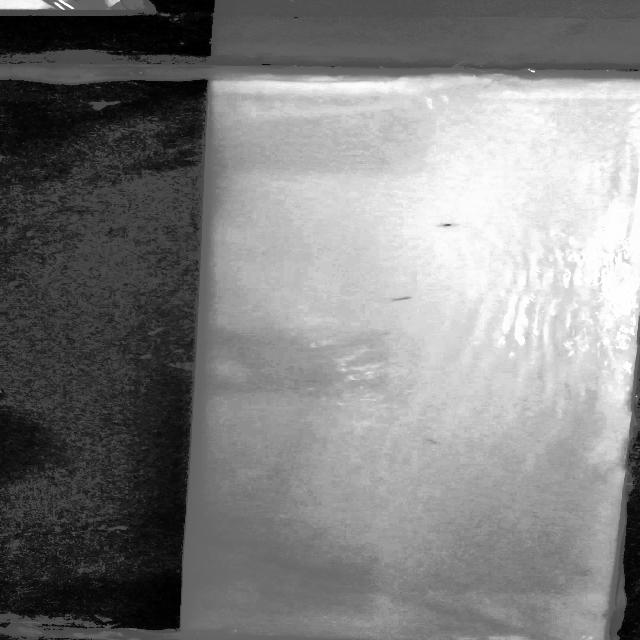shrimp: (425, 218, 470, 233), (378, 292, 419, 304)
